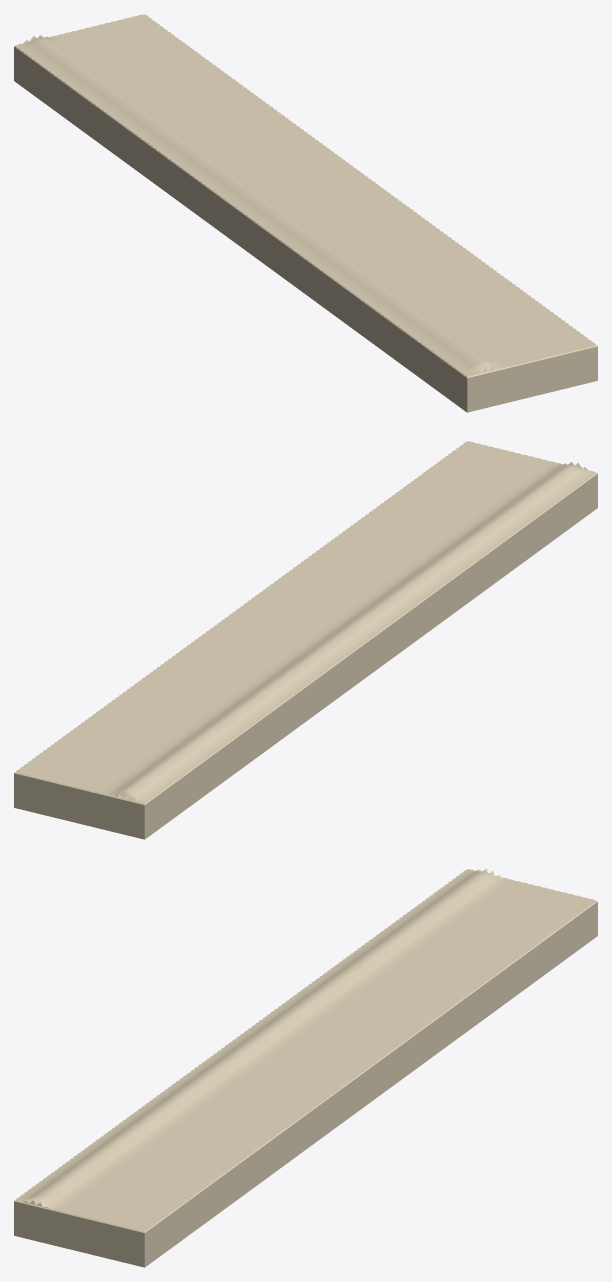
Rendered from mahsulot.glb.
3 renders of one model, top to bottom at view 1: azimuth 30°, elevation 25°; view 2: azimuth 150°, elevation 25°; view 3: azimuth 330°, elevation 25°, orthographic.
Visible parts, largest first — view 1: mahsulot; view 2: mahsulot; view 3: mahsulot.
Boxes of the visible parts, x1,y1,x2,y2 form: mahsulot: (14,14,597,412); mahsulot: (14,441,597,839); mahsulot: (14,868,597,1267).
Bounding box in the file's own units: 0.2 × 0.0593 × 1.2.
